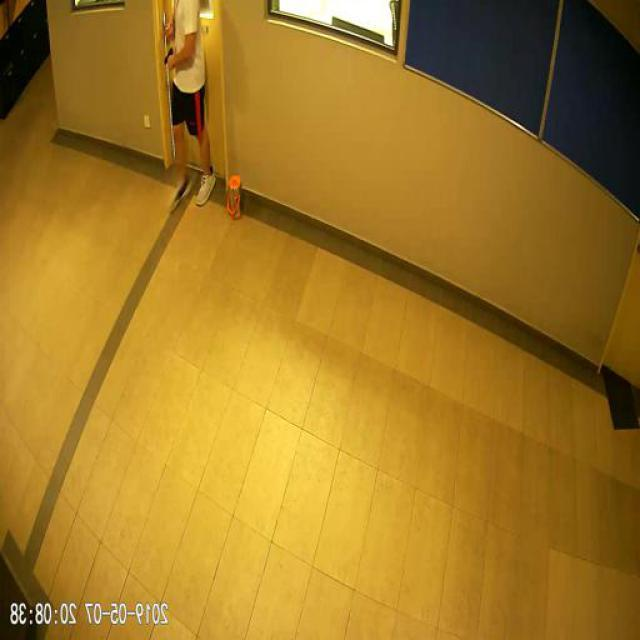Gun: (166, 45, 175, 69)
